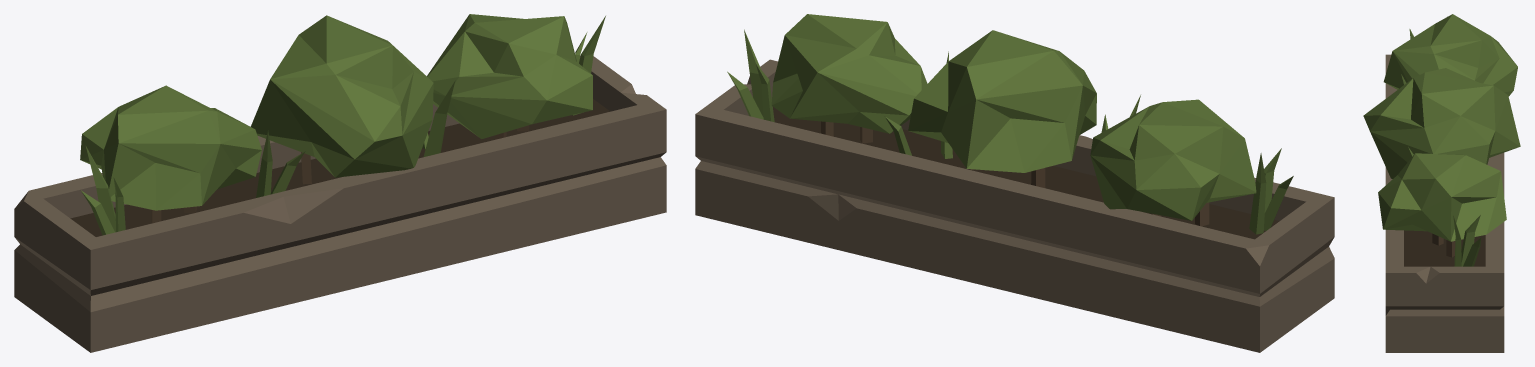
Rendered from planter.glb.
3 renders of one model, left to right at view 1: azimuth 30°, elevation 25°; view 2: azimuth 150°, elevation 25°; view 3: azimuth 270°, elevation 25°, orthographic. The views are drawn at different scales.
Visible parts, largest first — view 1: SM_Prop_Planter_01; view 2: SM_Prop_Planter_01; view 3: SM_Prop_Planter_01.
Boxes of the visible parts, box(x1,y1,x2,y2) form: SM_Prop_Planter_01: box(14, 14, 666, 352); SM_Prop_Planter_01: box(695, 14, 1334, 352); SM_Prop_Planter_01: box(1363, 14, 1520, 352).
Size of the model in its own units: 2.3 by 0.81 by 0.7007.
Materials: 1 (1 with a texture image).
